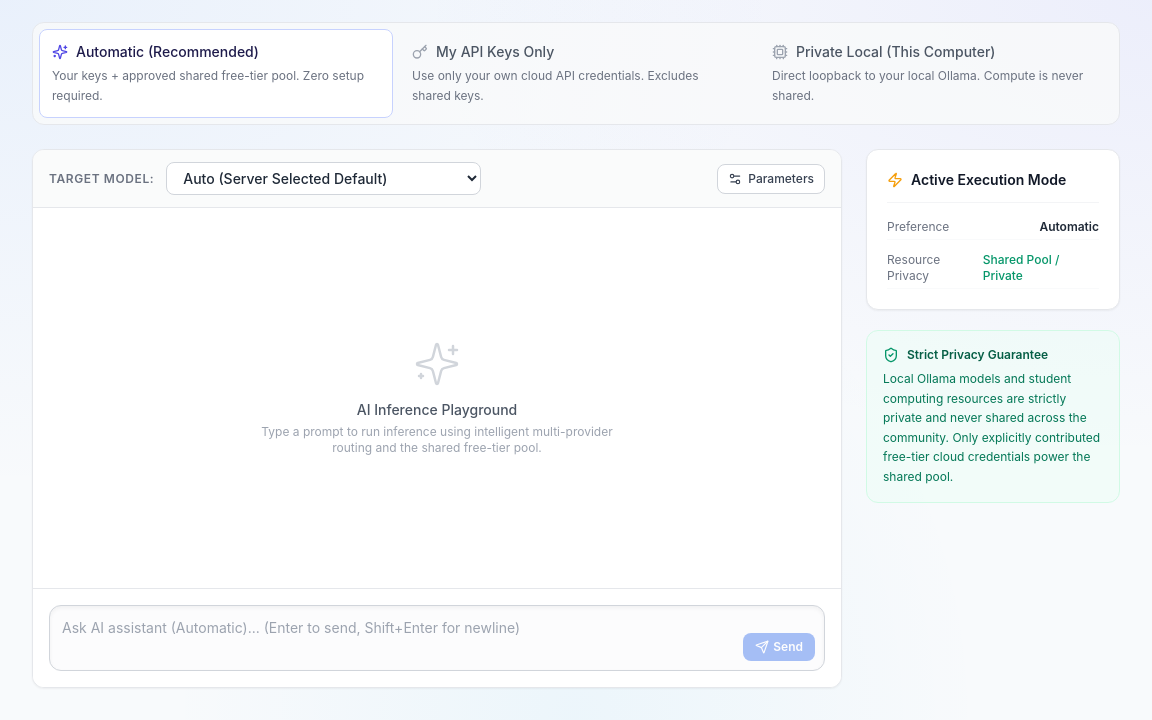
Test: LocalInferencePage Component › submits cloud inference with credential_scope: 'eligible_pool' in Automatic mode
(page scrolled)
Replace the text in the text box with "What is quantum computing?" at (437, 638), box [49,605,825,671]
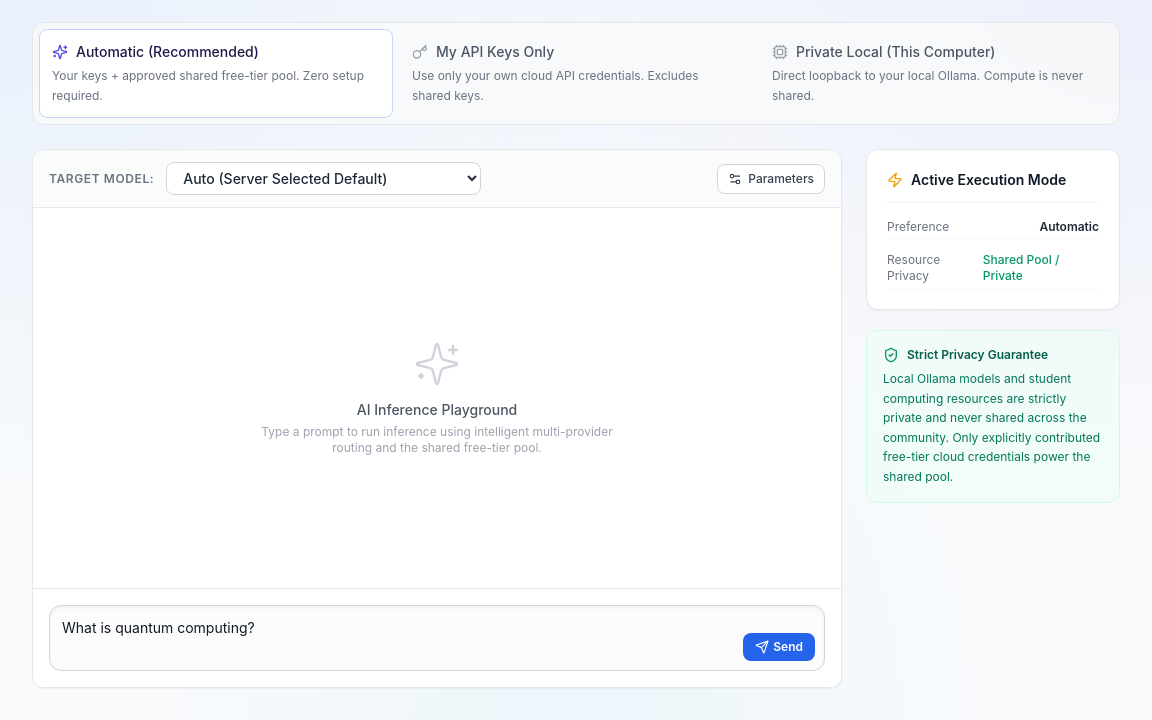
Click the button "Send" at (779, 647), box [743,633,815,661]
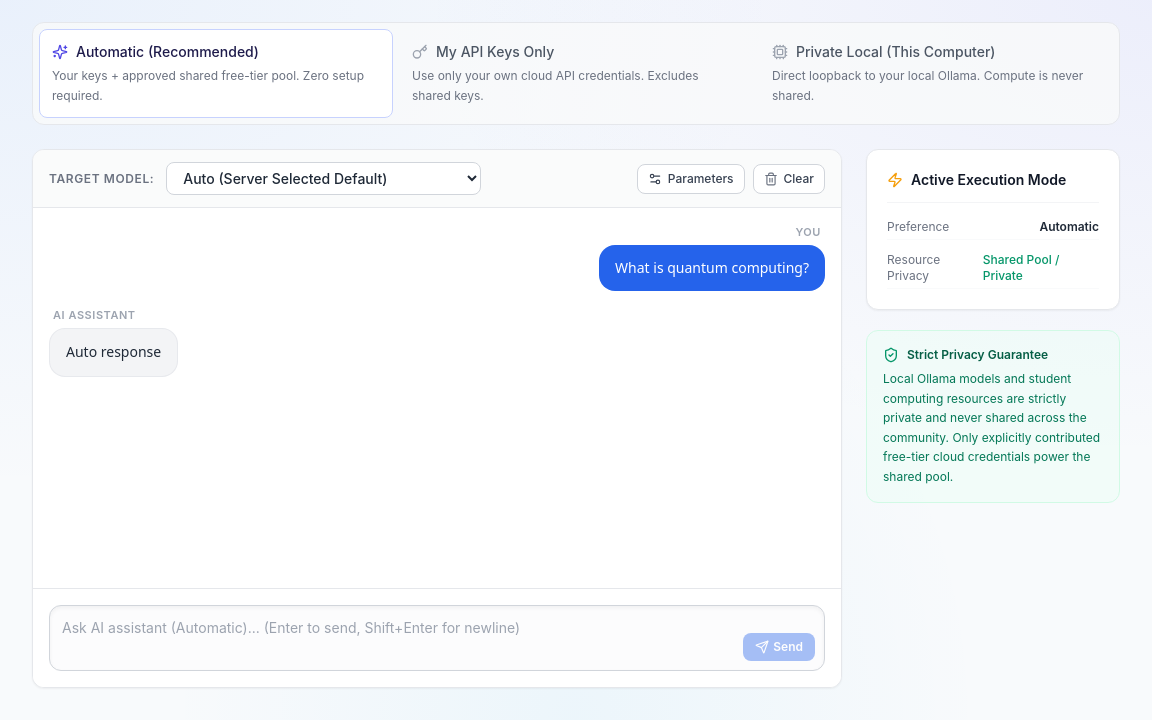
Now the text "Auto response" is shown, box [66,341,161,364]
